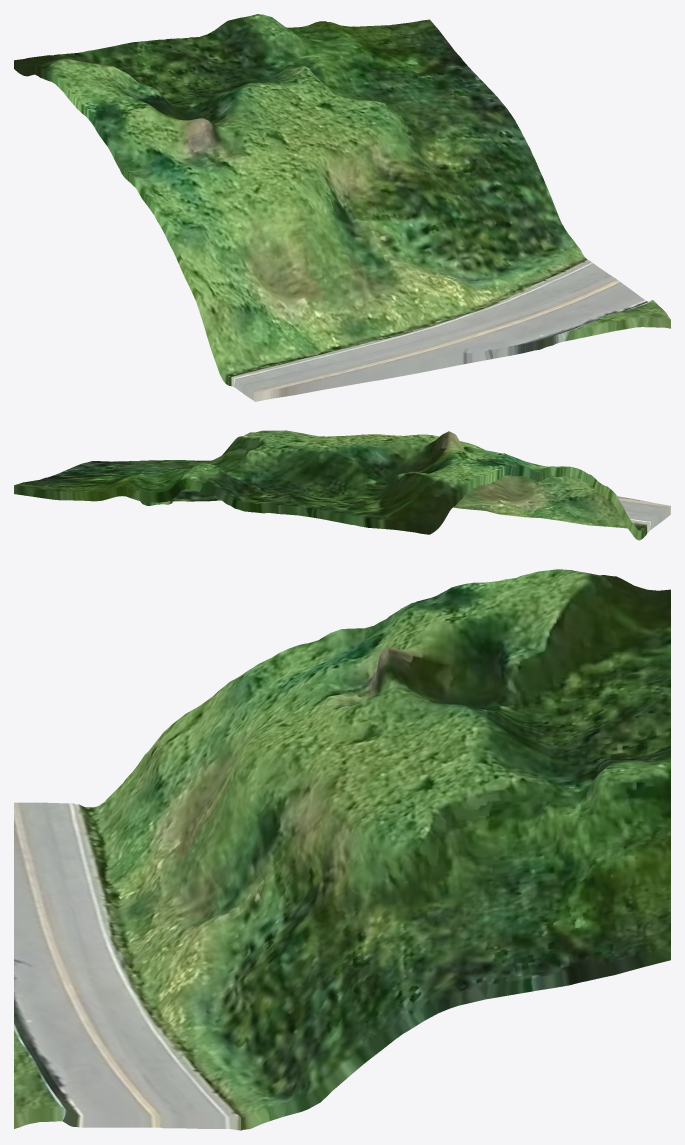
Rendered from z20-167564-405174-h0-yup-uvflip-v3-world.glb.
3 renders of one model, top to bottom at view 1: azimuth 30°, elevation 25°; view 2: azimuth 150°, elevation 25°; view 3: azimuth 270°, elevation 25°, orthographic. The views are drawn at different scales.
Bounding box in the file's own units: 30.16 × 14.8 × 30.32.
1 material, 1 textured.
